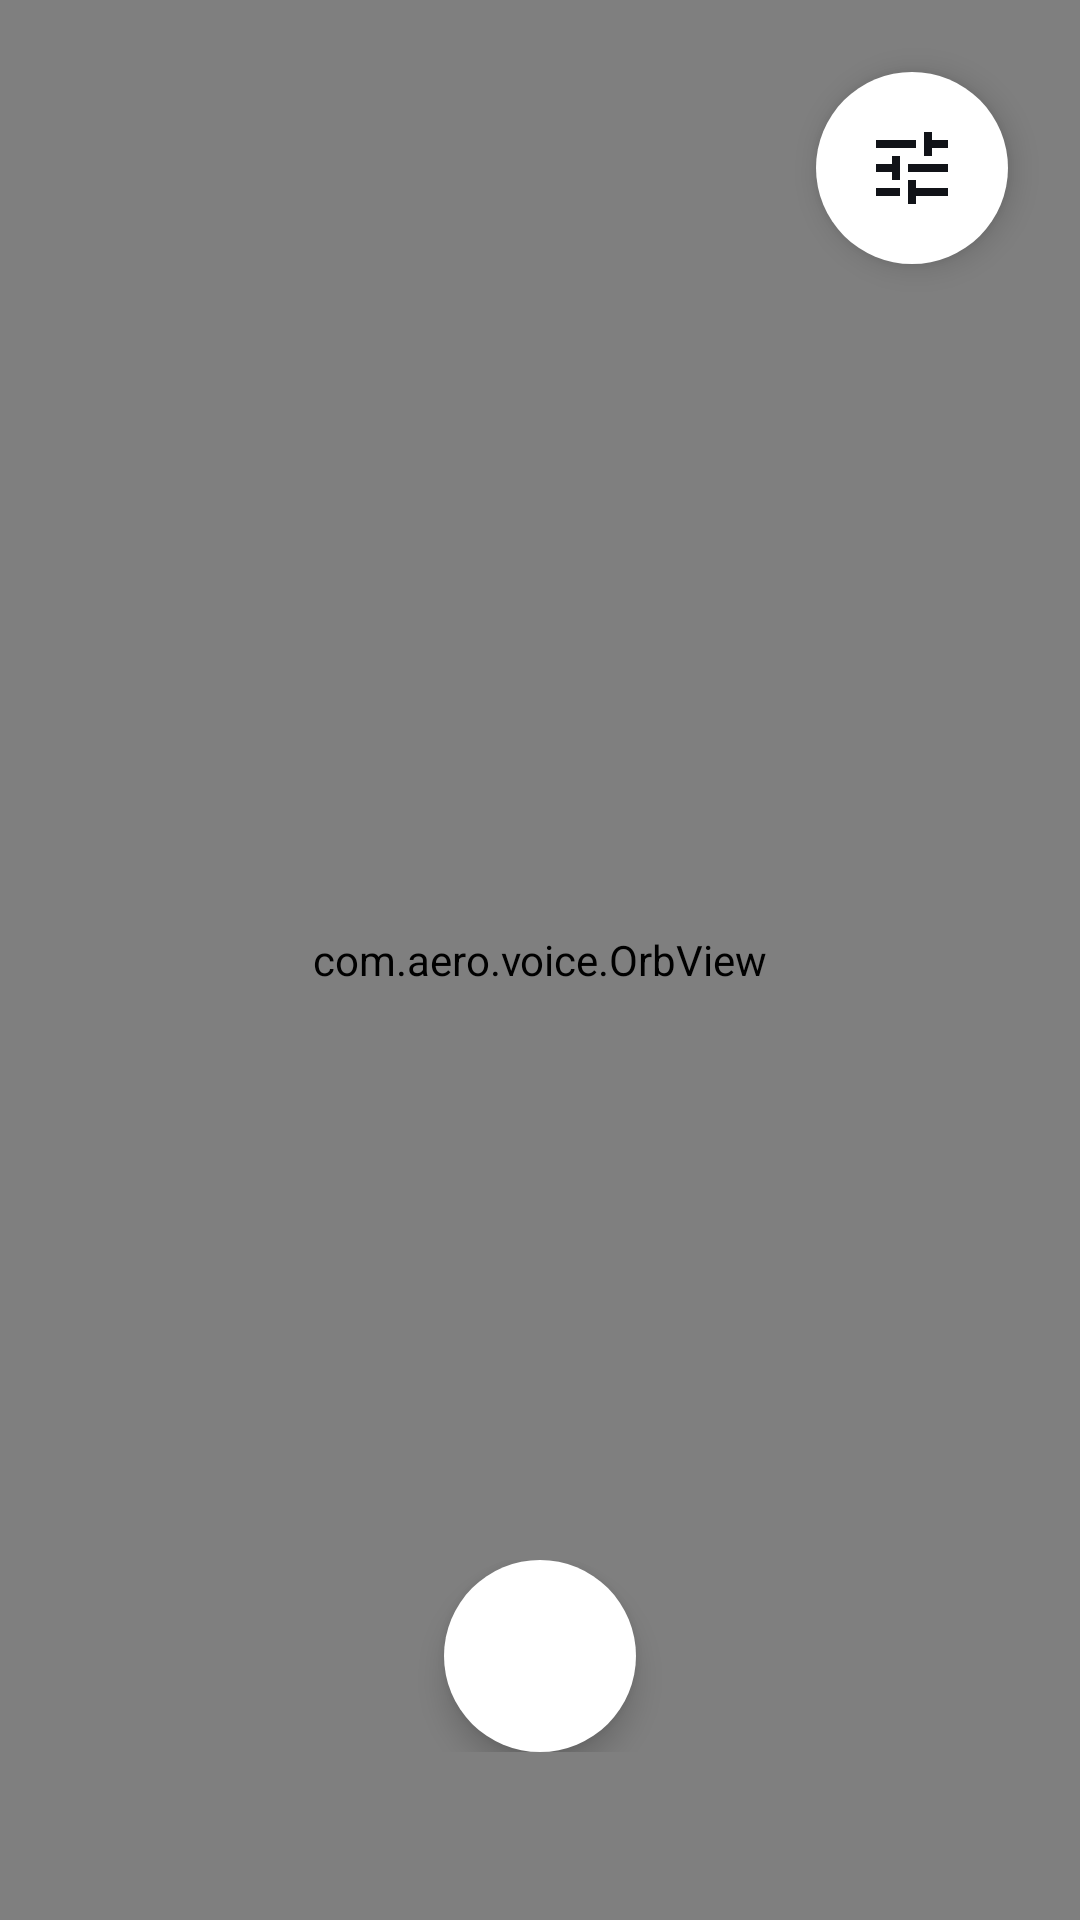

Point at icon controls on the screen. Image size 1080x1920, points as (x,y).
Settings: (912,168)
